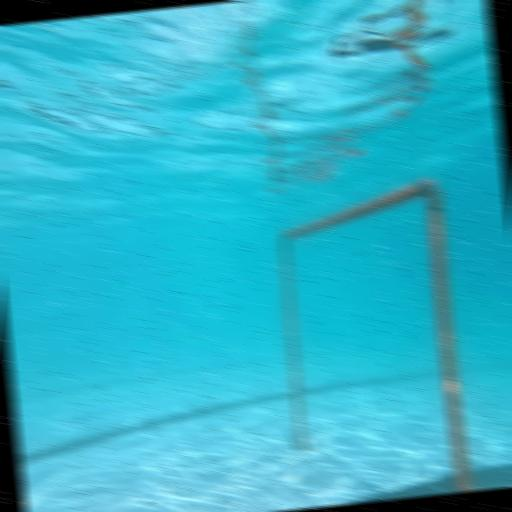gate: (266, 176, 474, 508)
